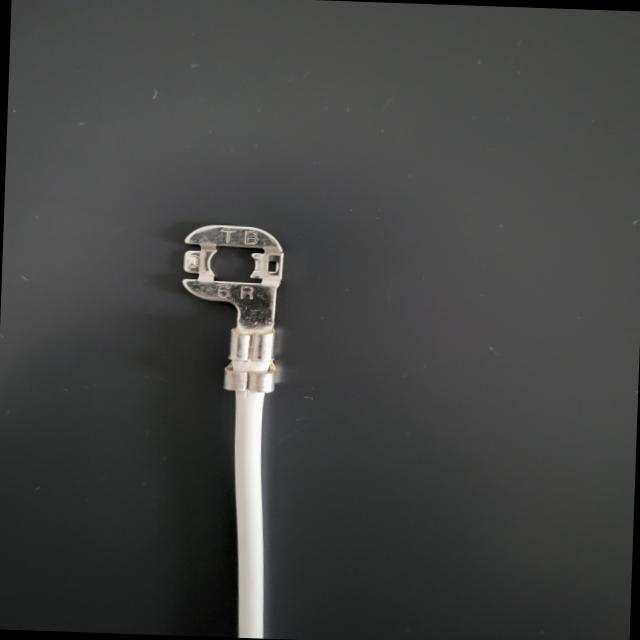defect: (180, 315, 350, 416)
